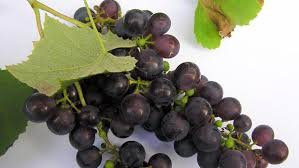Black grapes: (13, 1, 287, 168)
